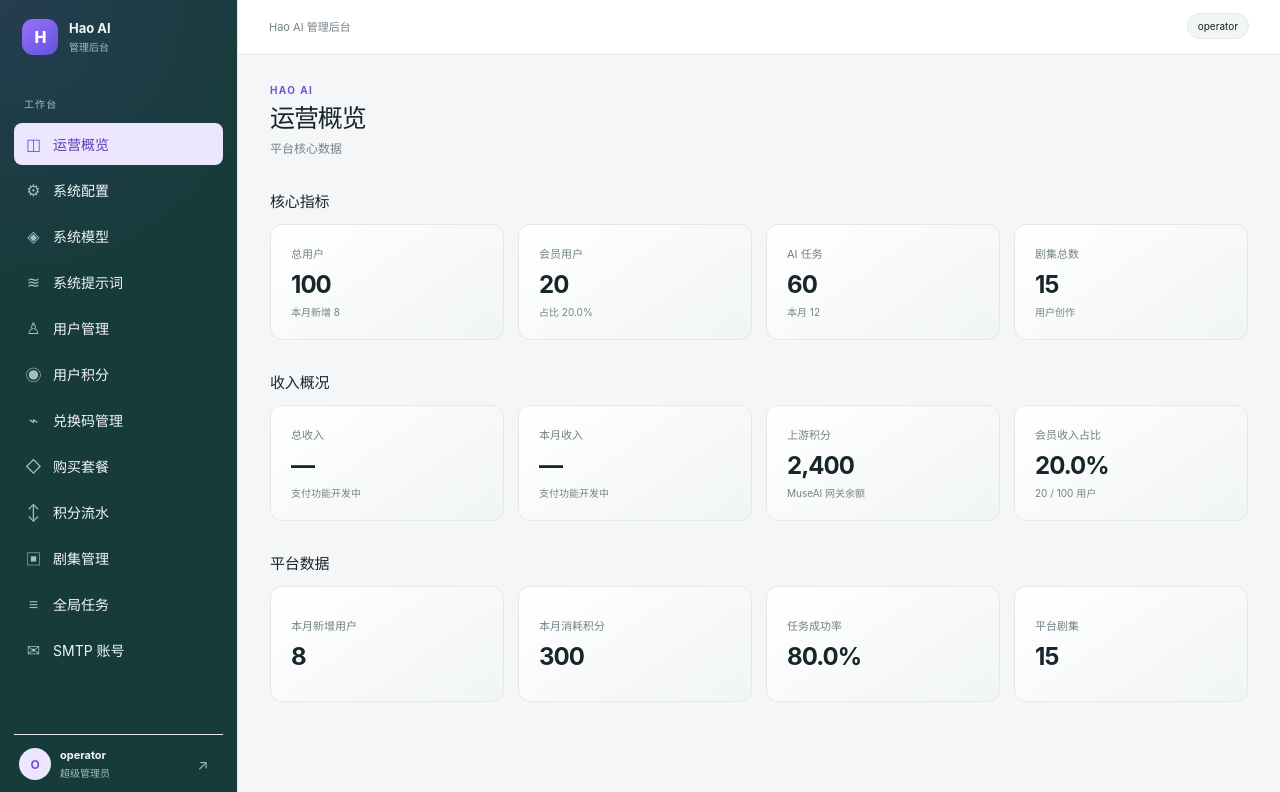
it: admin feature user flows › creates a model, returns to the list and reads the saved row back with the server total
Click the button "◈ 系统模型": point(118, 236) [14,215,223,257]
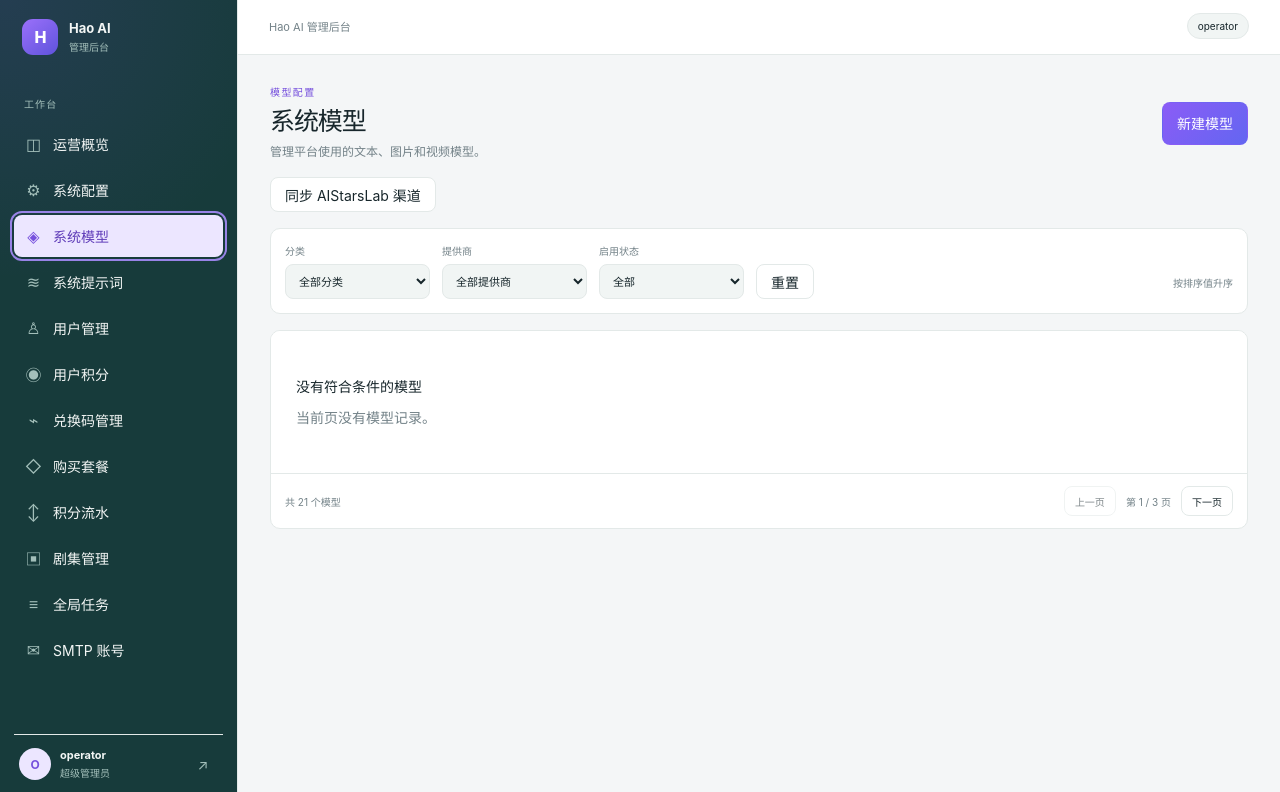
Now the text "共 21 个模型" is shown, box [285,494,341,509]
Click the button "新建模型": point(1205, 123) [1162,102,1248,145]
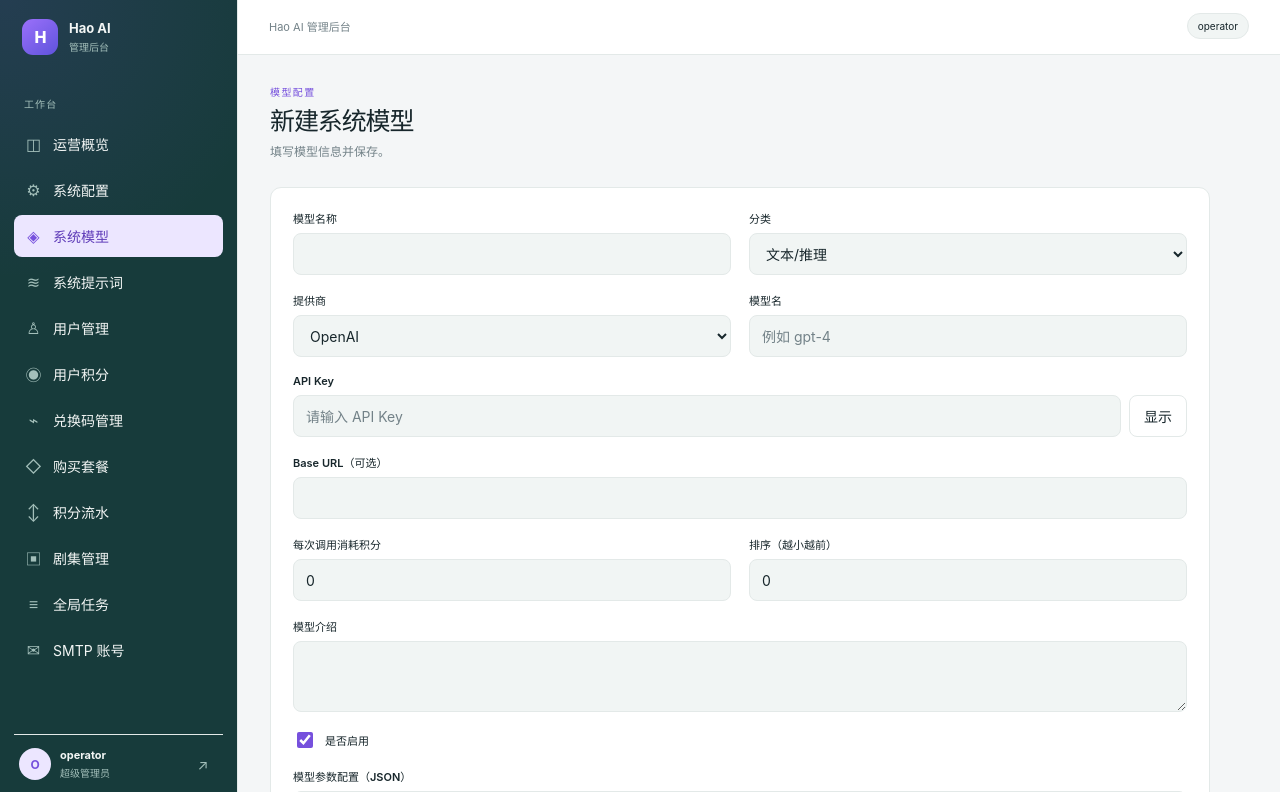
In the field labelled "模型名称": point(512, 254) [293,233,731,275], type "新模型"
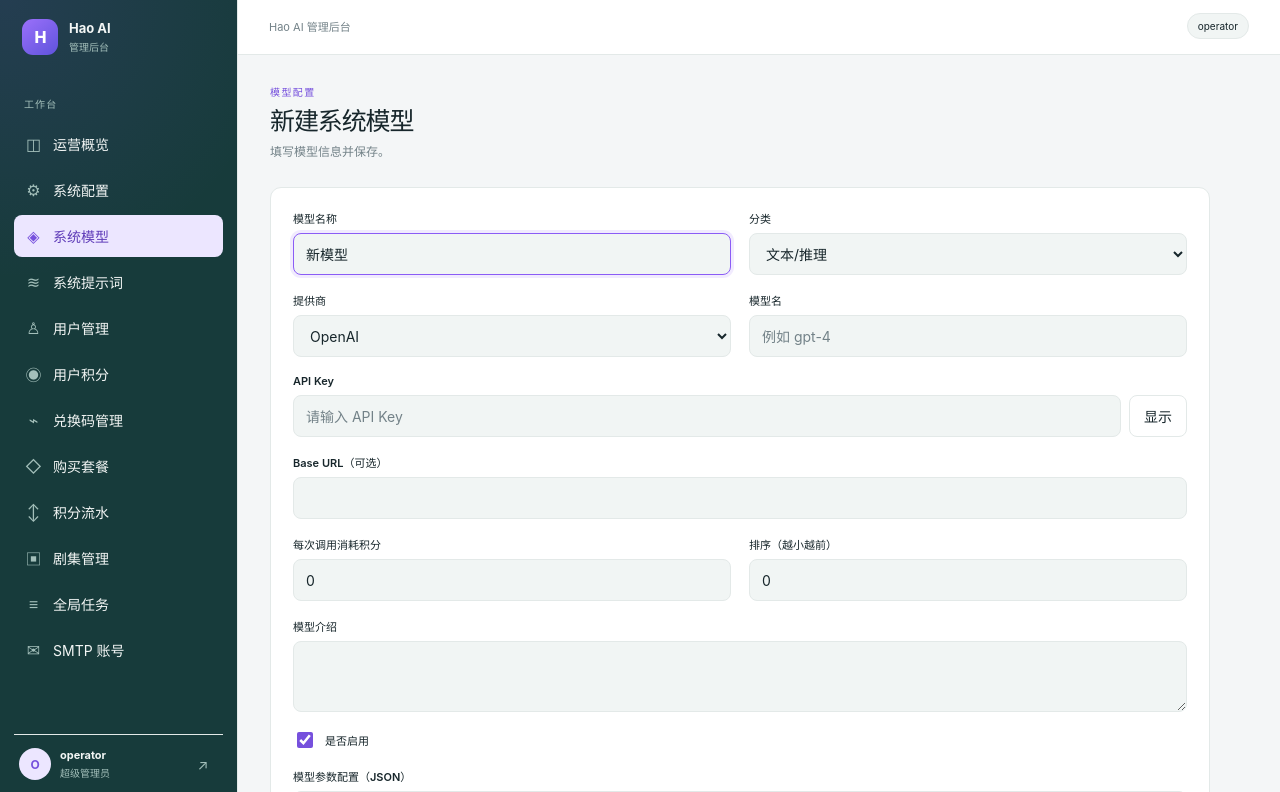
In the password field labelled "API Key": point(707, 416) [293,395,1121,437], type "new-secret"
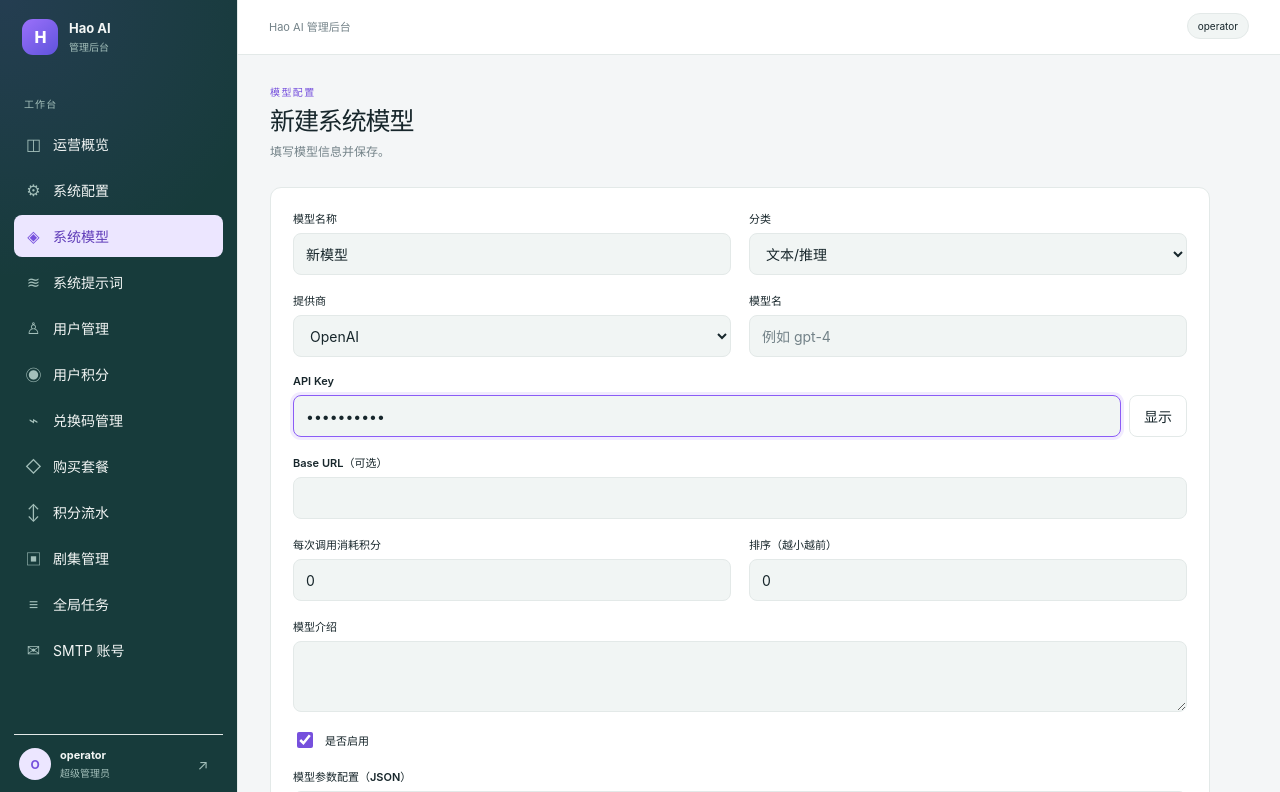
Select "视频生成" in the dropdown labelled "分类": point(968, 254) [749,233,1187,275]
(page scrolled)
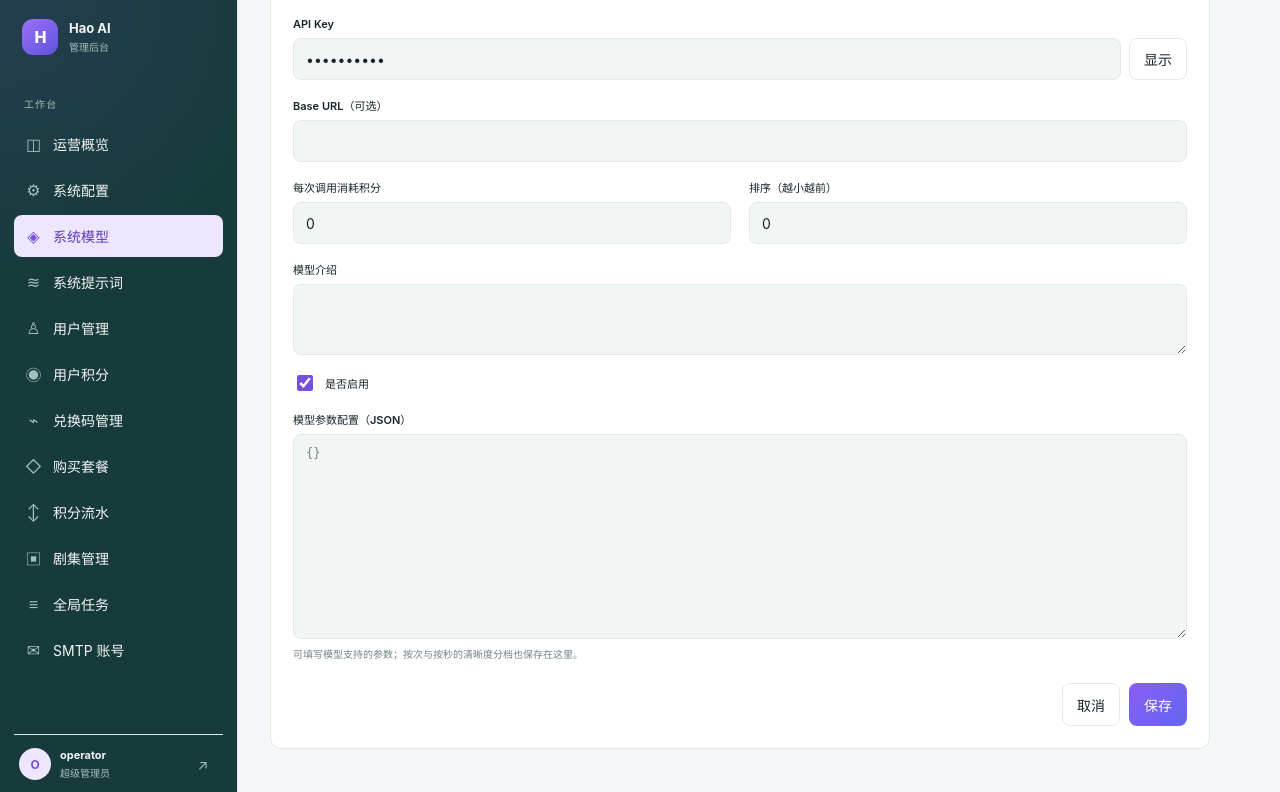
Click the button "保存": point(1158, 705) [1129,683,1187,726]
(page scrolled)
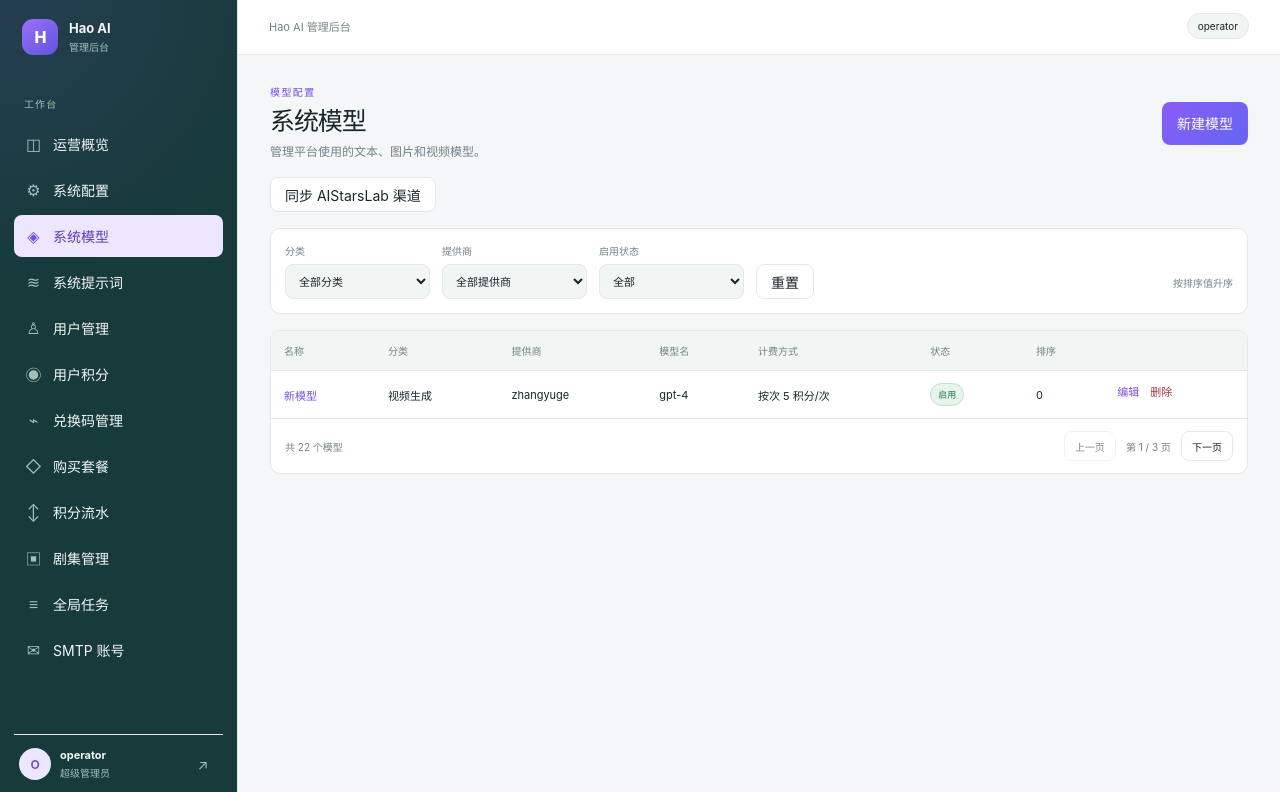
Now the button "新模型" is shown, box [284,387,317,403]
Now the text "共 22 个模型" is shown, box [285,439,343,454]
